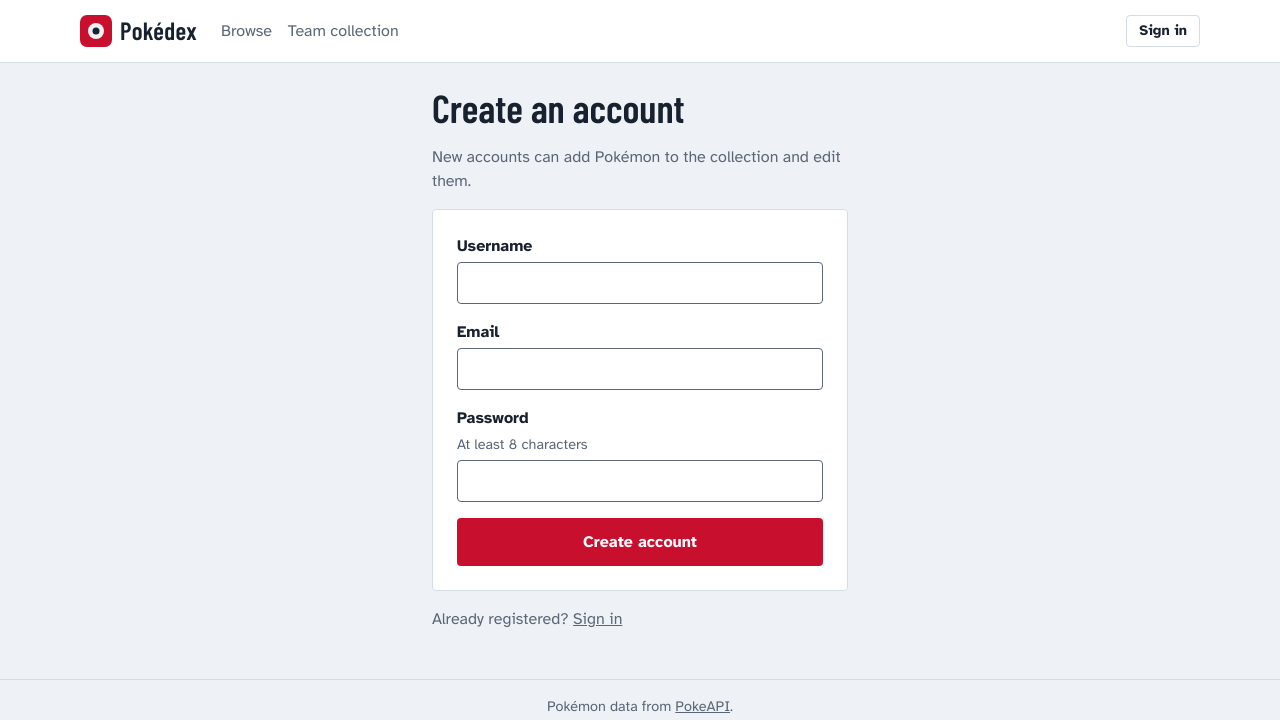
Test: Registering › puts a server-side conflict on the right field
Type "admin" into the field labelled "Username" at (640, 284), box [457,262,823,304]
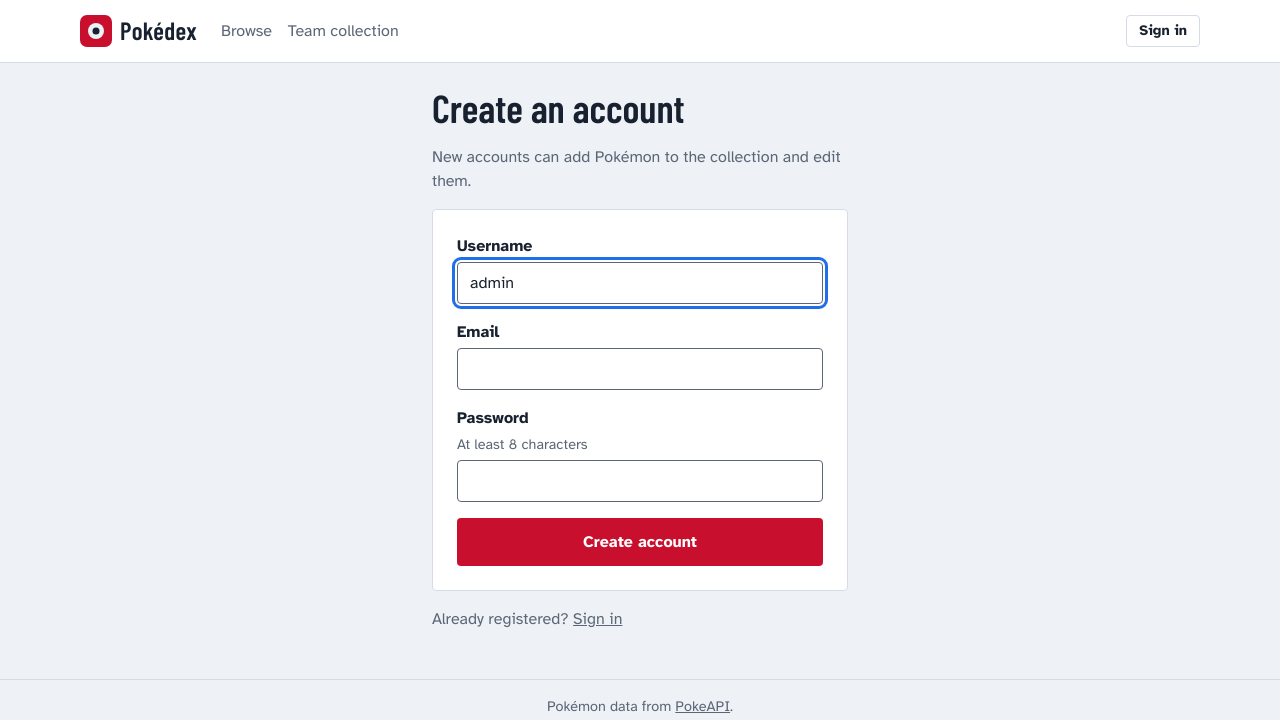
Type "admin2@pokemon.example" into the field labelled "Email" at (640, 370), box [457,348,823,390]
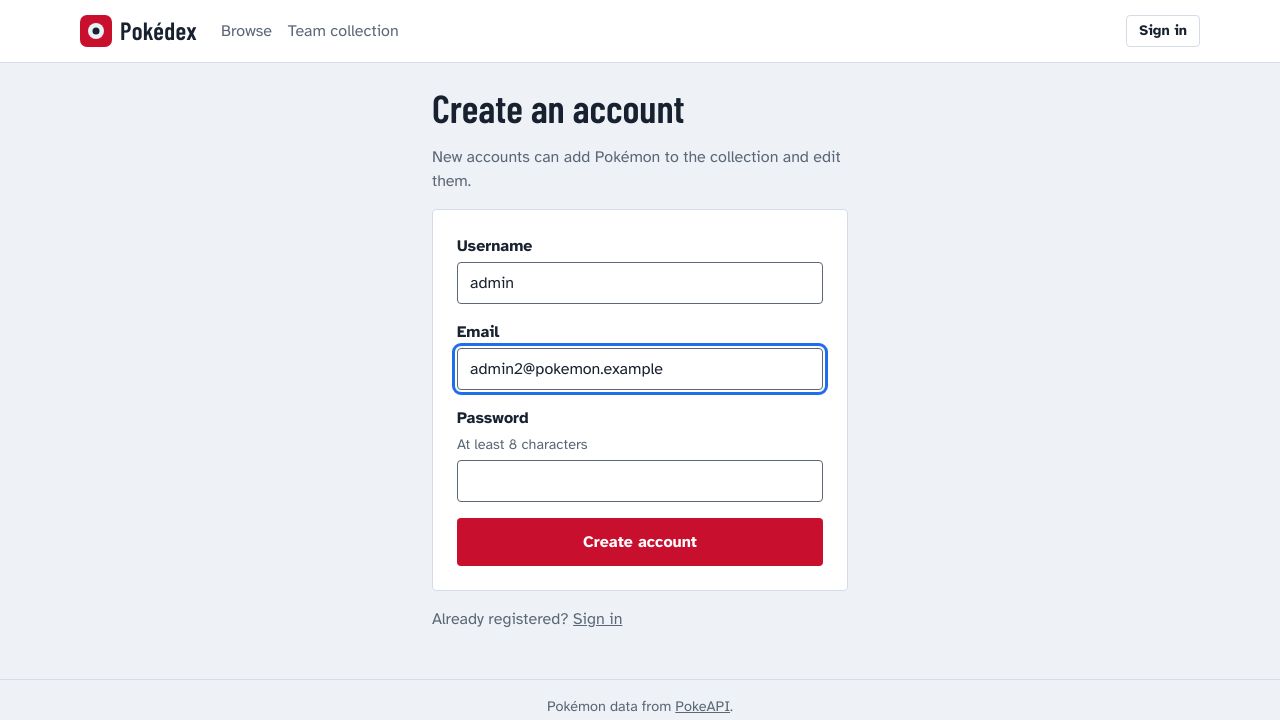
Type "long-enough-1" into the password field labelled "Password" at (640, 481), box [457,460,823,502]
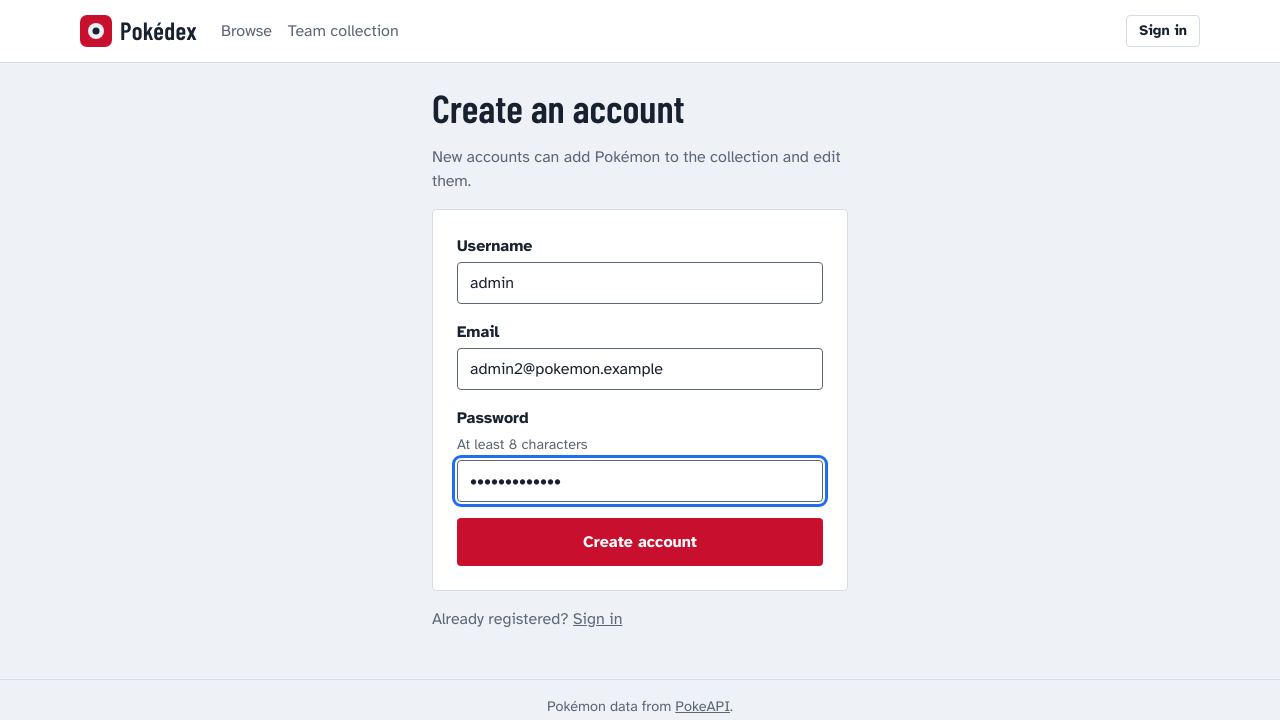
Click the button "Create account" at (640, 542), box [457,518,823,566]
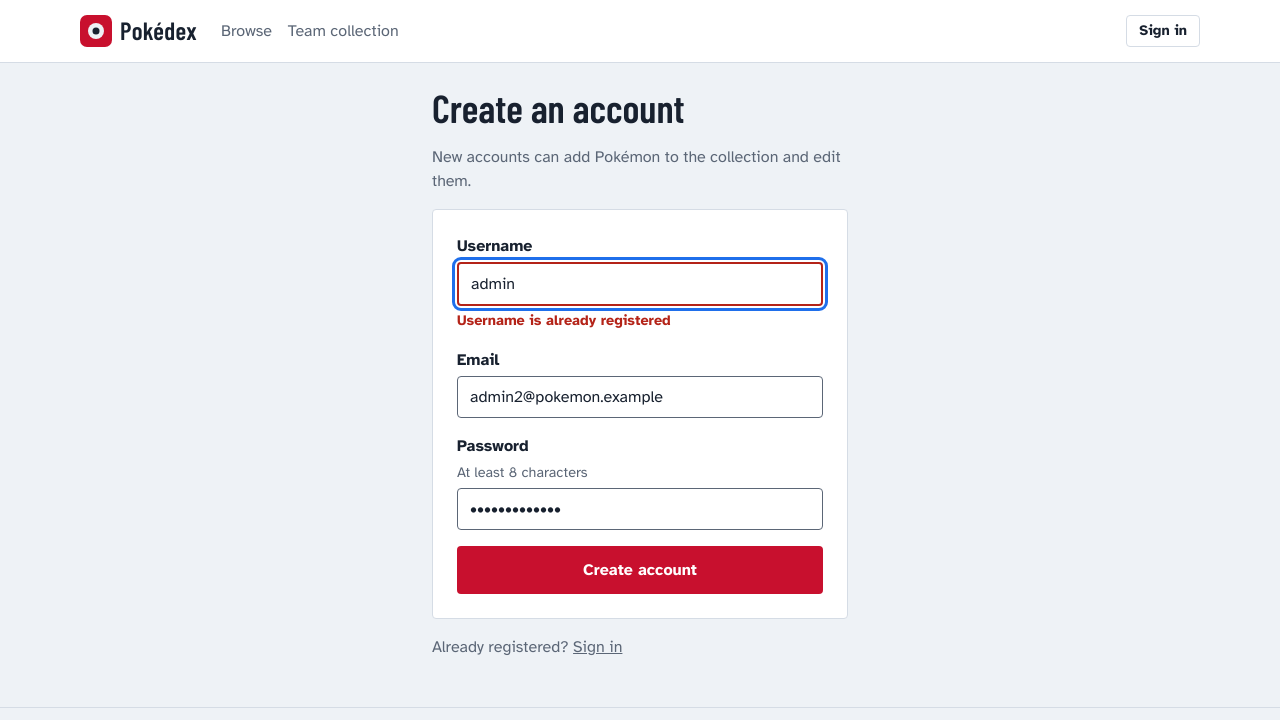
expect the text "Username is already registered" is shown: met, box [457,312,671,330]
